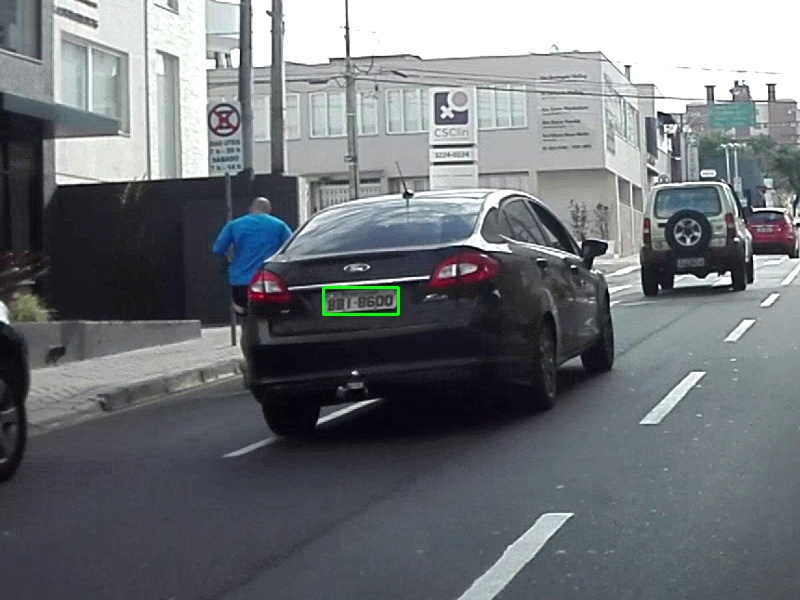placa: (323, 287, 398, 314)
